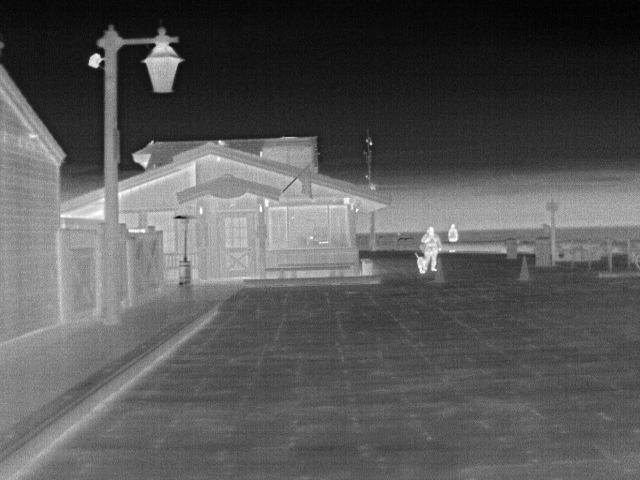dog: (414, 251, 429, 273)
person: (422, 225, 443, 269), (445, 223, 462, 241)
